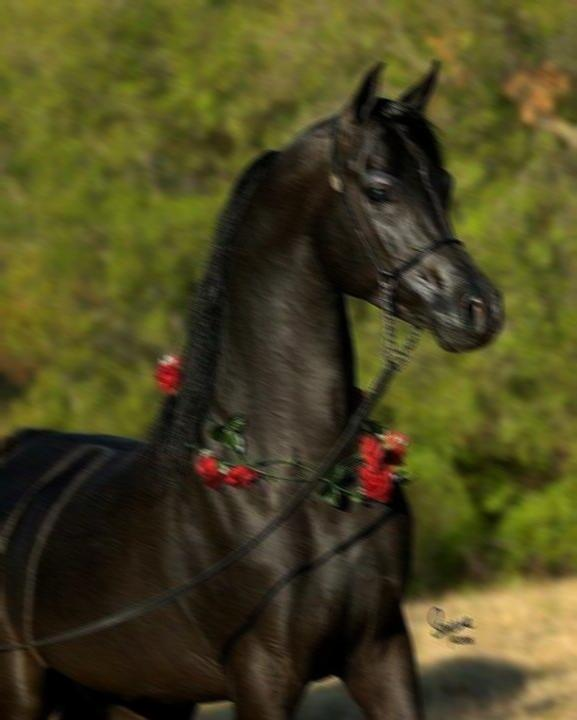horse: (0, 57, 504, 719)
